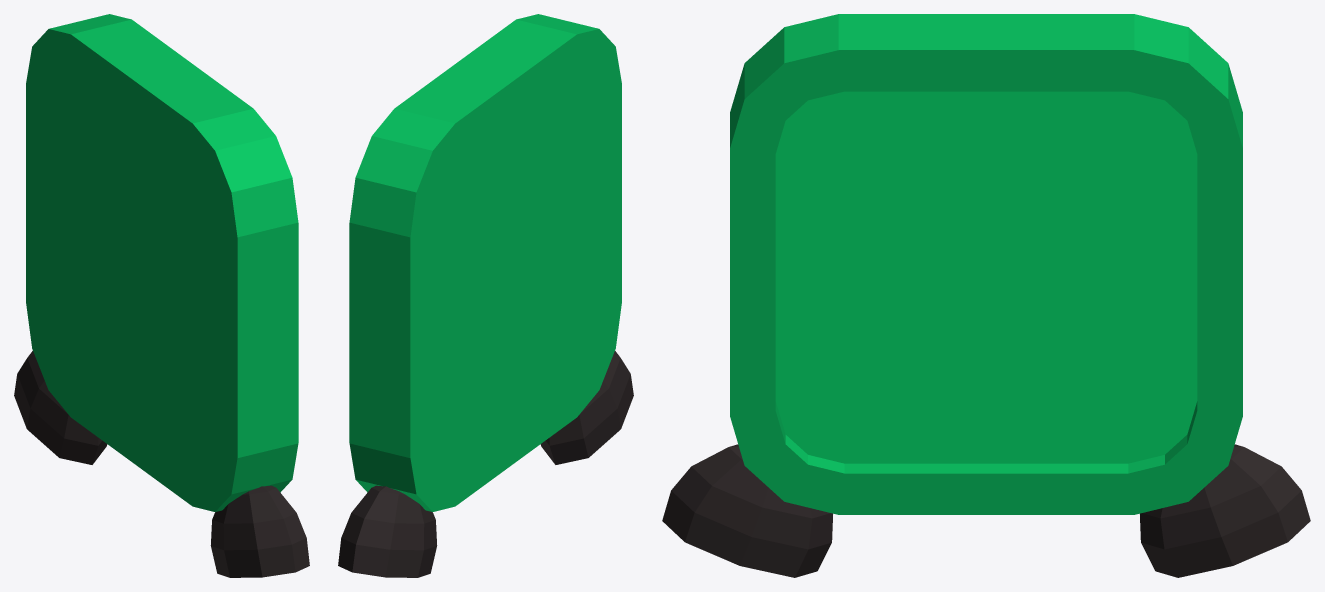
The model's file is SKIL_BONUS.fbx.
3 views of the same model, side by side, from view 1: azimuth 30°, elevation 25°; view 2: azimuth 150°, elevation 25°; view 3: azimuth 270°, elevation 25° (orthographic). The views are drawn at different scales.
Parts seen in each view (by area): view 1: Cube; view 2: Cube; view 3: Cube.
Part boxes in pixels (bbox=[...]): Cube: bbox=[14, 14, 309, 577]; Cube: bbox=[338, 14, 633, 577]; Cube: bbox=[662, 14, 1310, 577].
Bounding box in the file's own units: 5.69 × 34.82 × 37.94.
